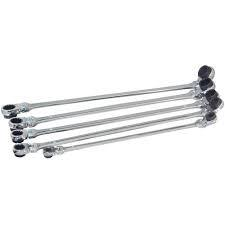wrench: (10, 96, 224, 157), (0, 63, 215, 118), (9, 87, 219, 142), (7, 76, 215, 130), (42, 109, 216, 158)
